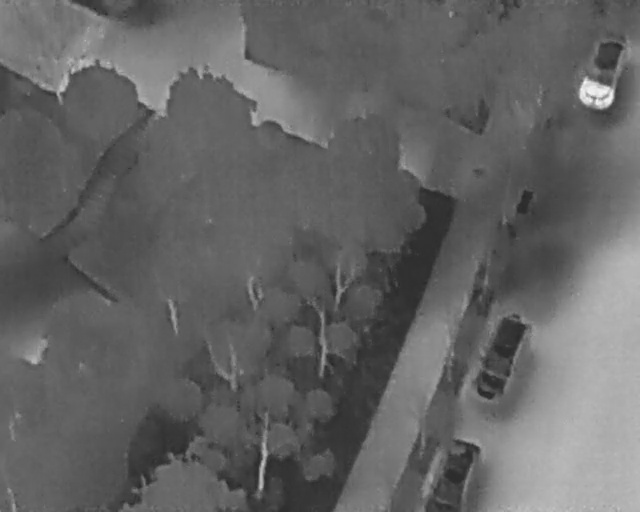Car: (466, 307, 535, 407), (422, 436, 482, 510), (574, 34, 629, 114)
